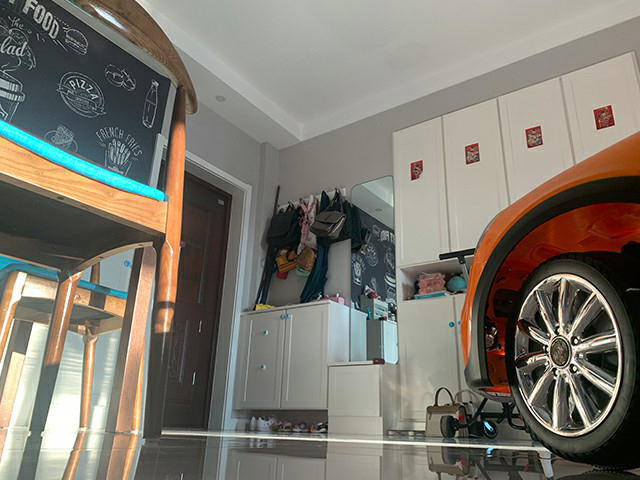cabinet: (390, 49, 640, 437), (326, 360, 404, 440)
stool: (1, 1, 196, 438), (1, 253, 147, 433)
